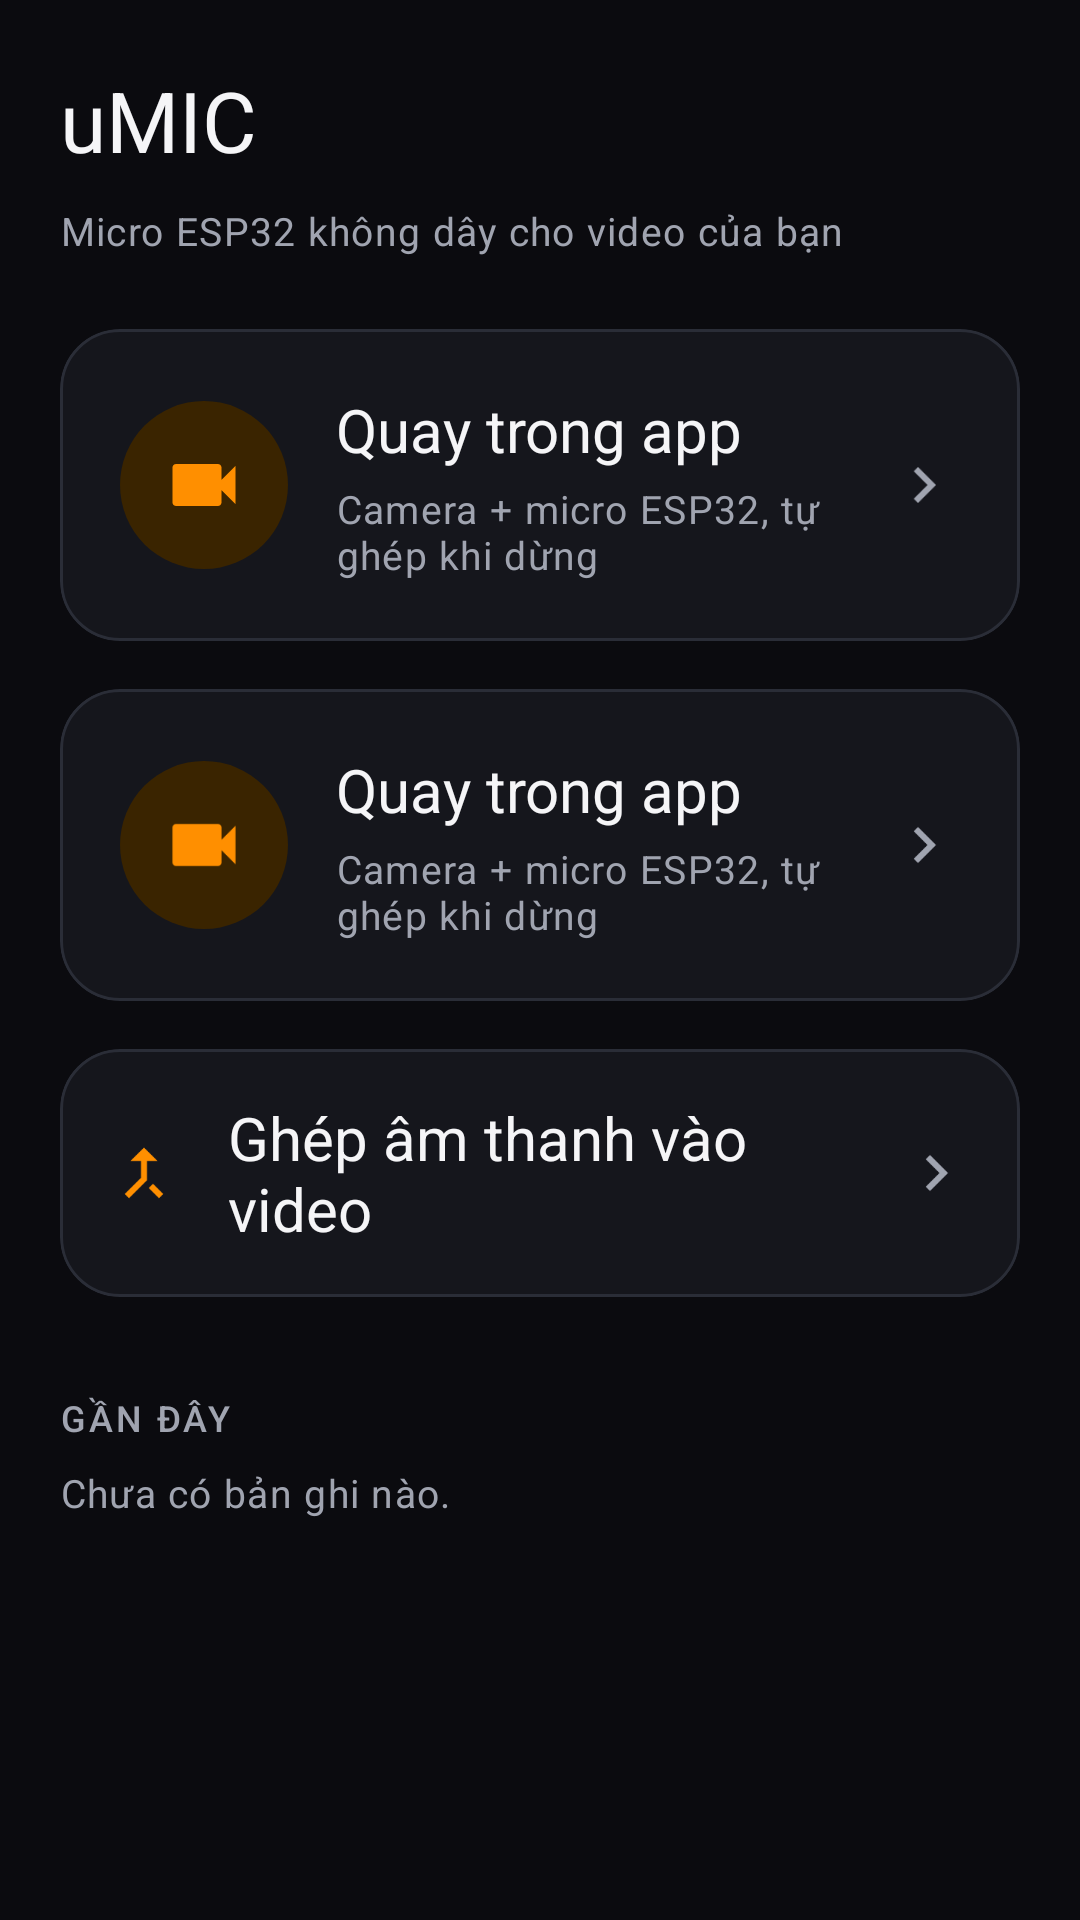

Where icons sit on this 1080 × 1920 app screen, as (x1, y1, x2, y2):
chevron right: (914, 467, 936, 503), (914, 827, 936, 863), (926, 1155, 948, 1191)
merge: (125, 1147, 163, 1198)
